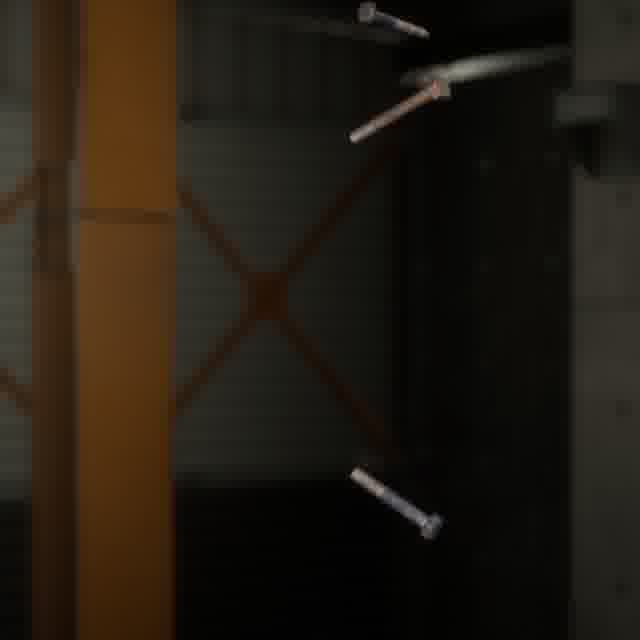bolt: (345, 70, 454, 148), (346, 463, 448, 545), (352, 0, 433, 42)
